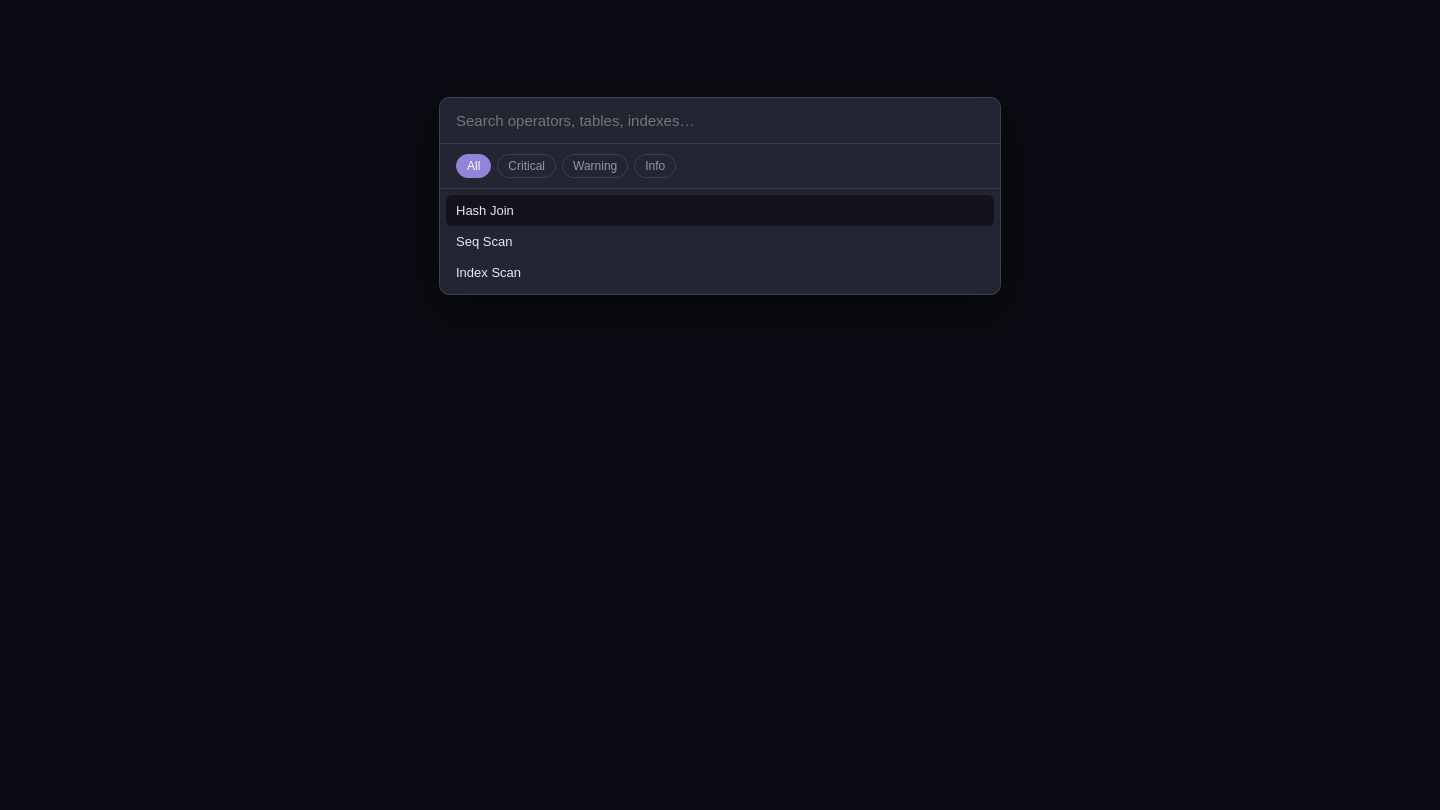
Scenario: SearchPalette › severity filter chips narrow results independently of the text query
The width and height of the screenshot is (1440, 810).
Click the button with test id "search-palette-severity-critical" at [527, 166], box [497, 154, 556, 178]
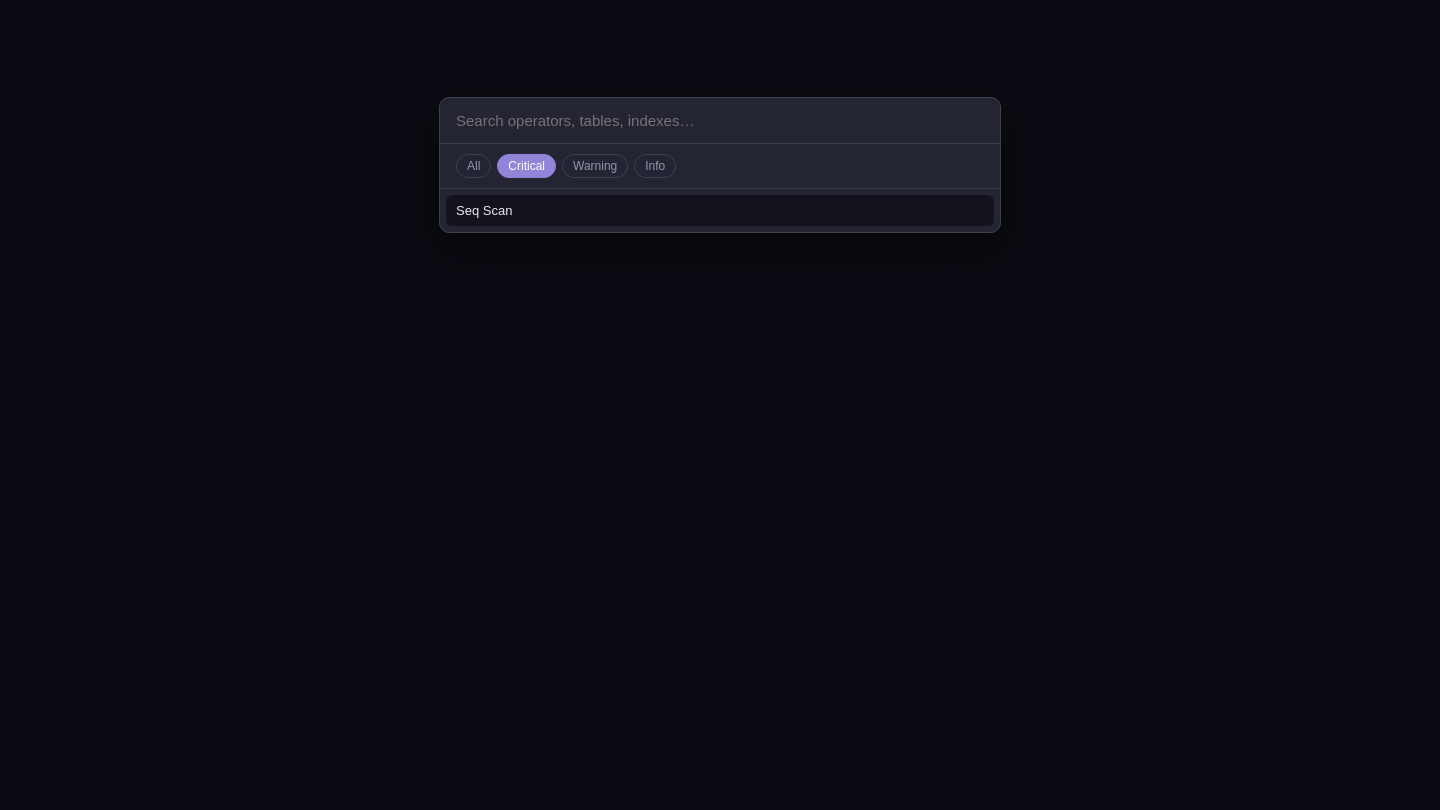
Expected: the text "Seq Scan" is shown, [456, 203, 512, 218]
Expected: the number of options with test id "search-palette-result" is 1, [446, 195, 994, 226]
